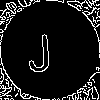J: (25, 25, 53, 73)
